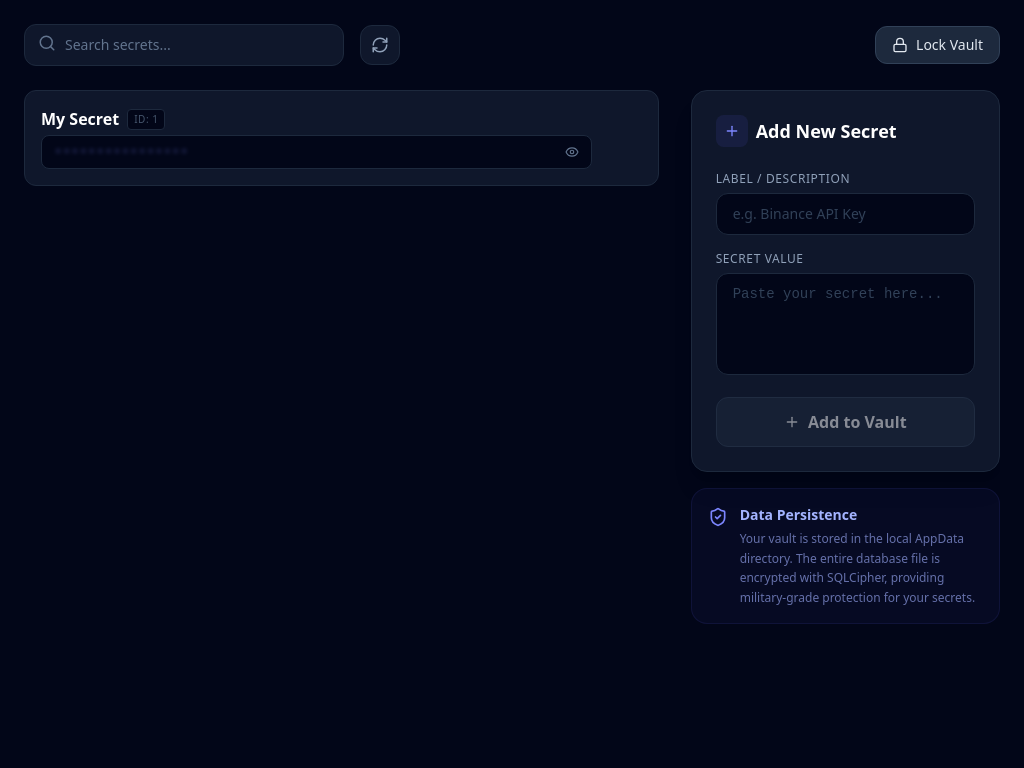
Test: VaultTab › should reveal secret value
The image size is (1024, 768).
Check: the heading "My Secret" is shown, box [41,107,119,131]
Click the button without text below "Add New Secret".
click(572, 152)  # box [565,145,579,159]
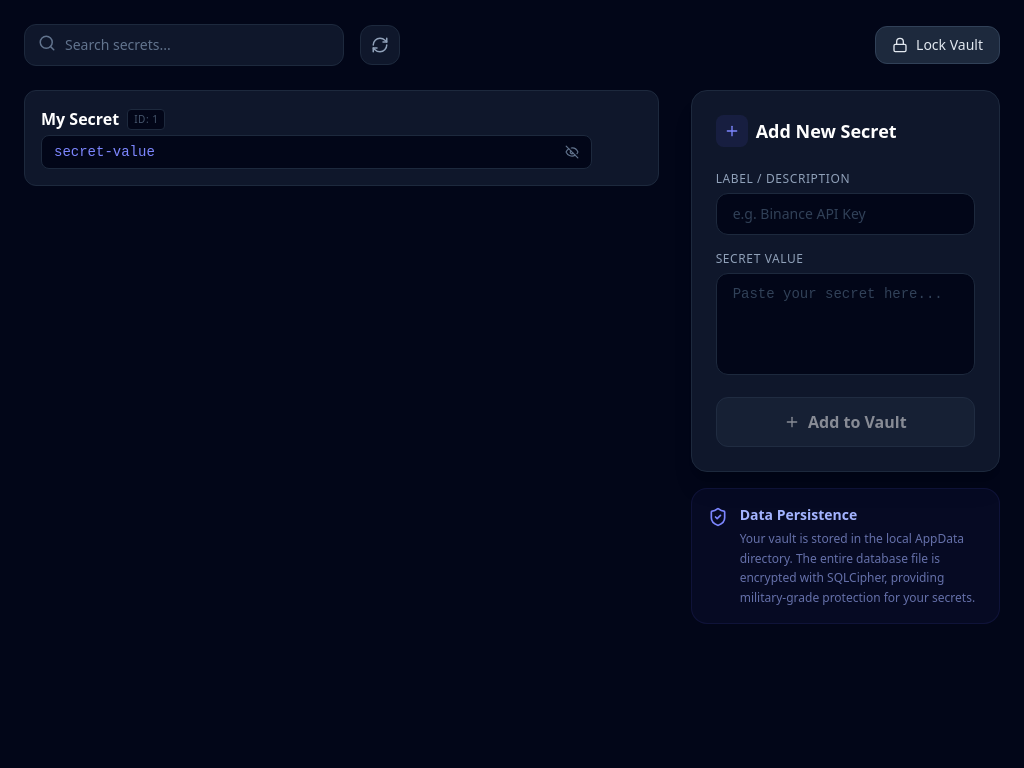
Check: the text "secret-value" is shown, box [54,142,155,162]
